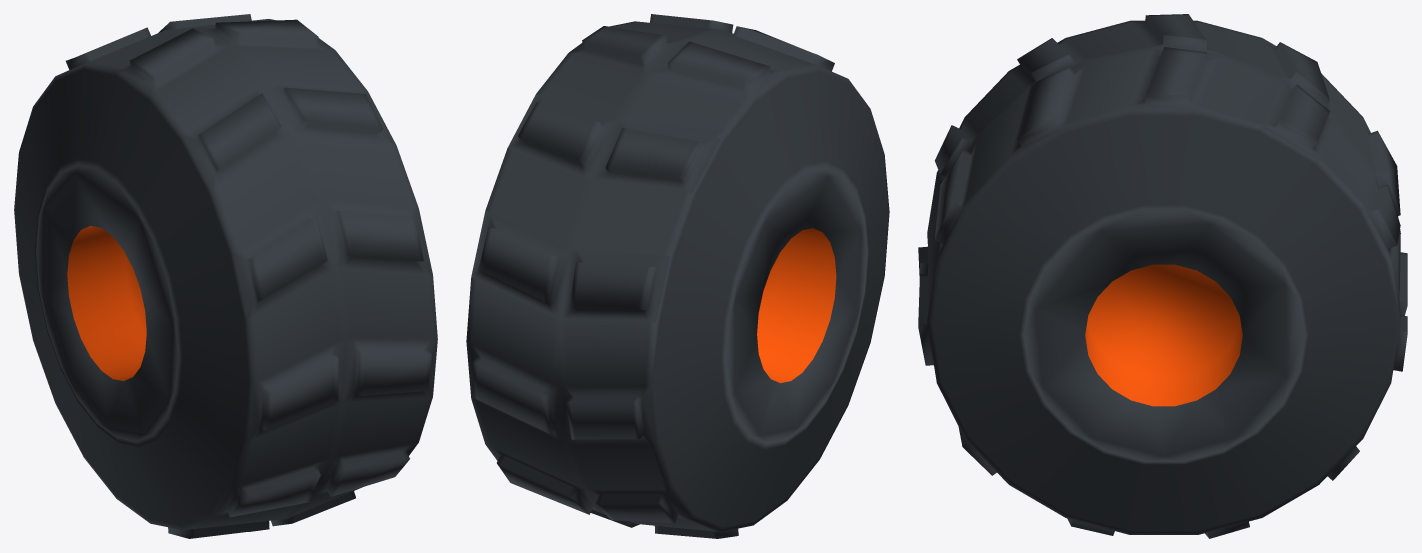
File: Tyre.fbx
3 views of the same model, side by side, from view 1: azimuth 30°, elevation 25°; view 2: azimuth 150°, elevation 25°; view 3: azimuth 270°, elevation 25° (orthographic).
Visible parts, largest first — view 1: Tyre; view 2: Tyre; view 3: Tyre.
Boxes of the visible parts, left/top/right/bottom form: Tyre: left=14, top=14, right=437, bottom=538; Tyre: left=466, top=14, right=889, bottom=538; Tyre: left=918, top=14, right=1407, bottom=538.
Size of the model in its own units: 43.71 by 83.28 by 78.57.
